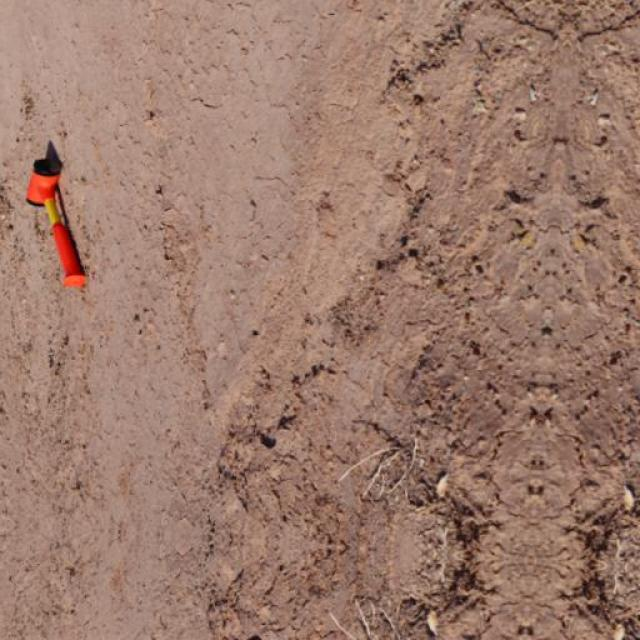mallet: (23, 157, 88, 290)
